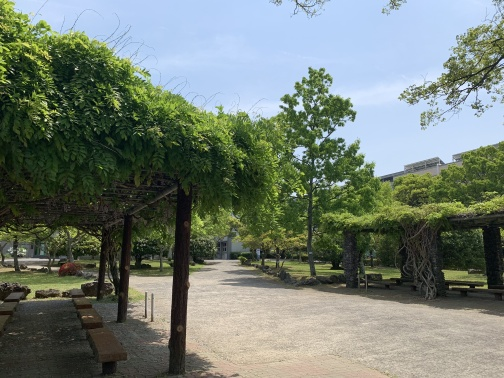College Of Education: (384, 143, 504, 187)
